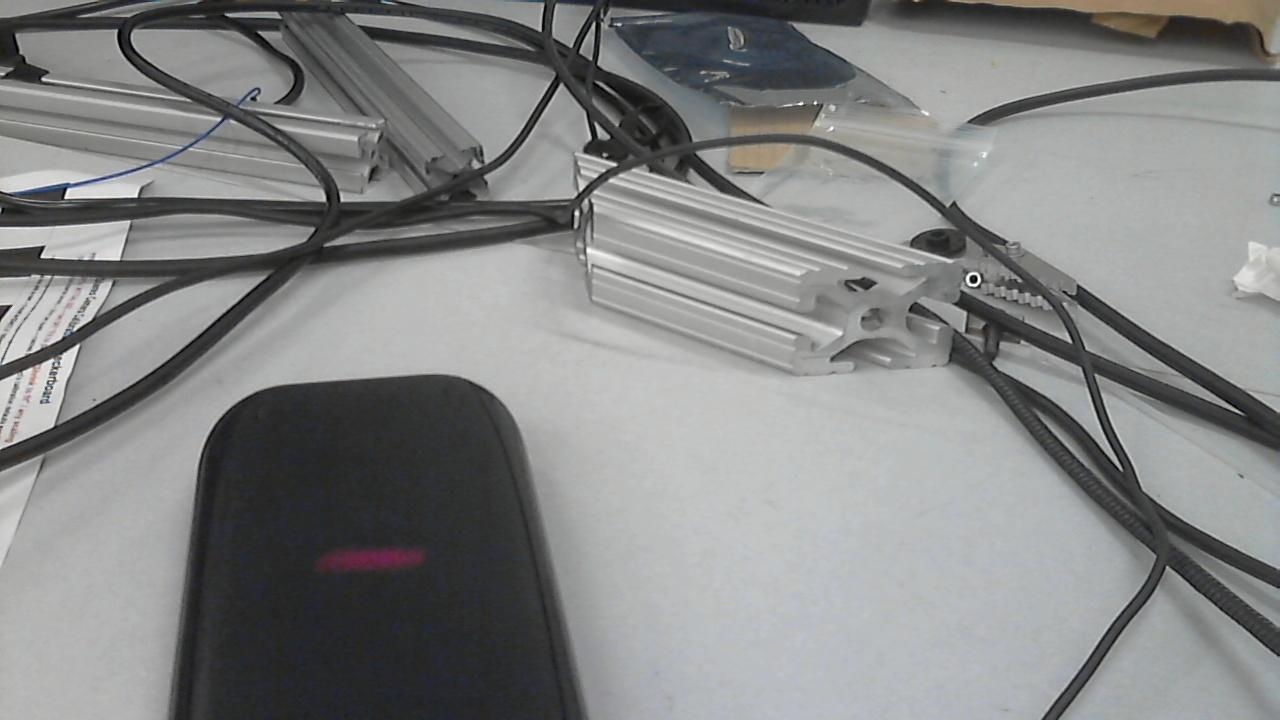Object insulated water bottle - Material metal - Color navy blue - Pdfname Uop6e: (292, 531, 451, 586)
